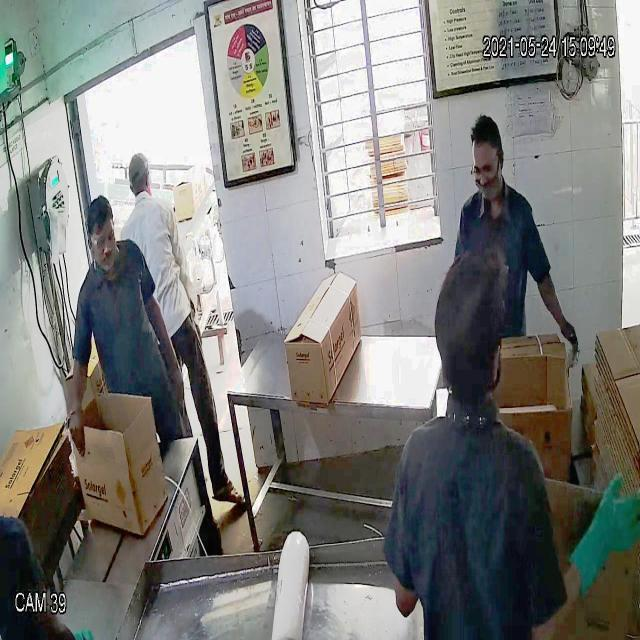glasses: (84, 220, 118, 252), (468, 156, 502, 186)
